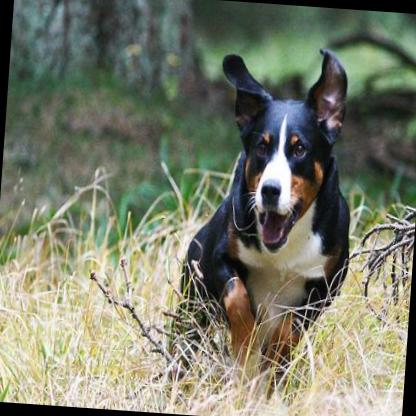Appenzeller: (161, 36, 365, 399)
